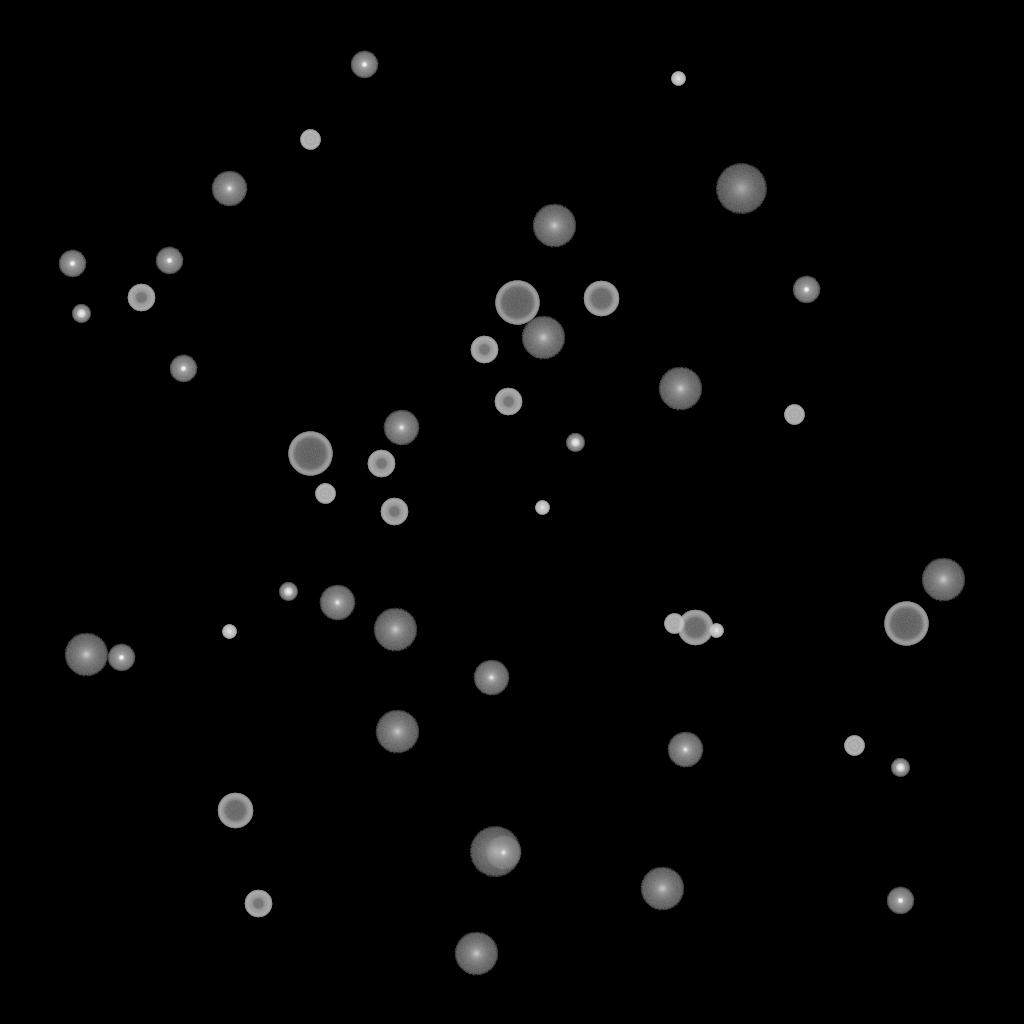depth:-10: (886, 887, 914, 915), (58, 250, 86, 278), (350, 51, 378, 79), (155, 247, 183, 275), (107, 644, 135, 672), (169, 355, 197, 383), (792, 276, 820, 304)
depth:-20: (891, 759, 909, 777), (566, 434, 584, 452), (72, 305, 90, 323), (279, 583, 297, 601)
depth:-30: (535, 501, 549, 515), (671, 72, 685, 86), (709, 624, 723, 638), (222, 625, 236, 639)
depth:-40: (664, 614, 684, 634), (315, 484, 335, 504), (844, 736, 864, 756), (300, 130, 320, 150), (784, 405, 804, 425)
depth:-50: (380, 498, 408, 526), (470, 336, 498, 364), (494, 388, 522, 416), (127, 284, 155, 312), (367, 450, 395, 478), (244, 890, 272, 918)
depth:-60: (677, 610, 713, 646), (217, 793, 253, 829), (583, 281, 619, 317)
depth:-70: (884, 602, 928, 646), (288, 432, 332, 476), (495, 281, 539, 325)
depth:0: (667, 732, 703, 768), (473, 660, 509, 696), (383, 410, 419, 446), (485, 835, 521, 871), (211, 171, 247, 207), (319, 585, 355, 621)
depth:10: (532, 204, 576, 248), (658, 367, 702, 411), (921, 558, 965, 602), (375, 710, 419, 754), (521, 316, 565, 360), (64, 633, 108, 677), (454, 932, 498, 976), (373, 608, 417, 652), (640, 867, 684, 911)
depth:20: (469, 827, 521, 877), (715, 164, 767, 214)
